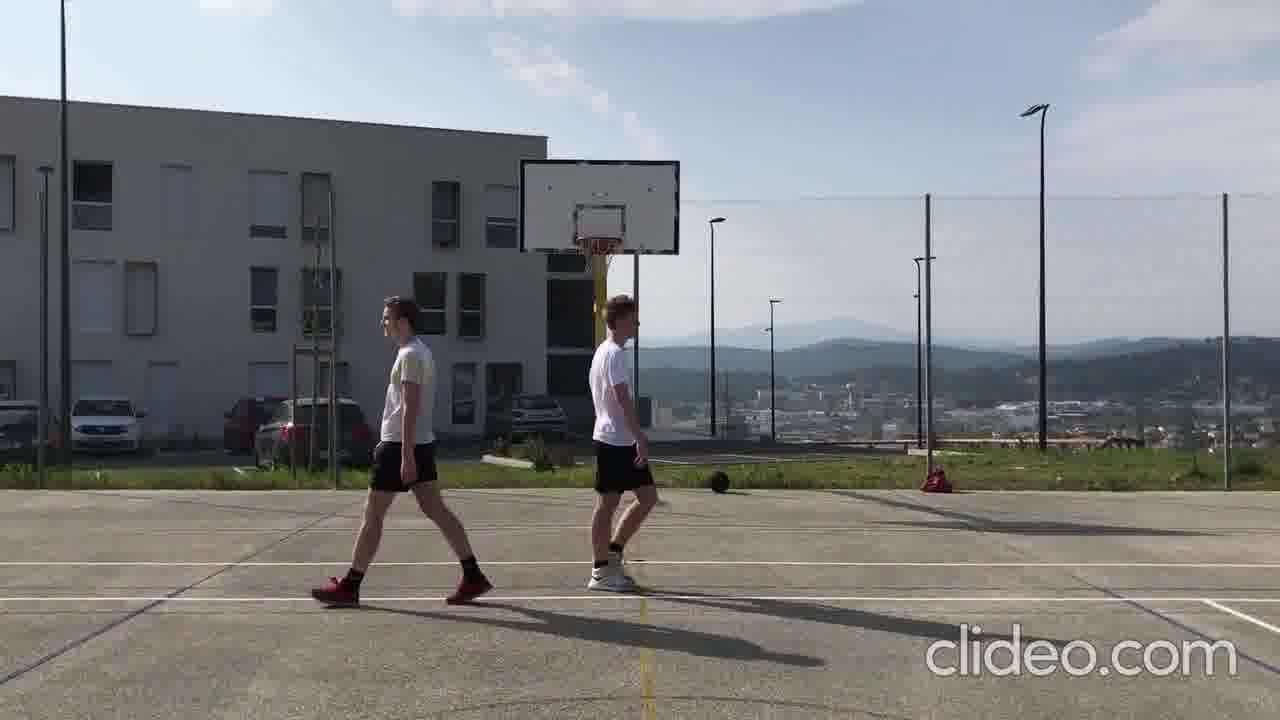jugador: (295, 285, 502, 621)
